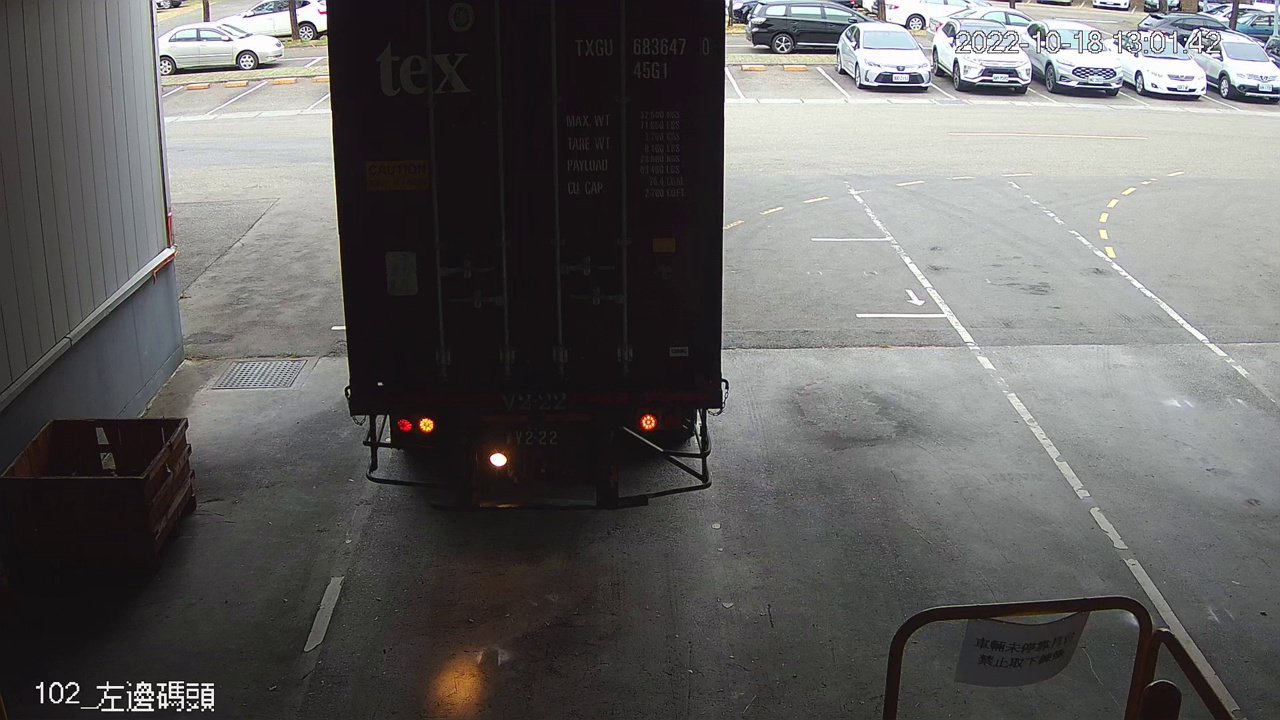container: (565, 28, 719, 87)
